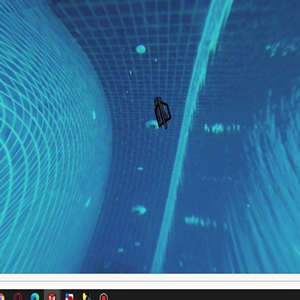submarine: (148, 95, 173, 129)
